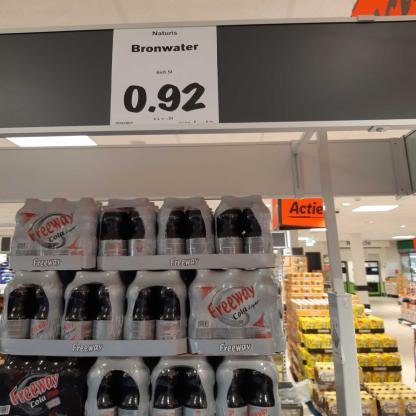prtg: (111, 27, 220, 127)
